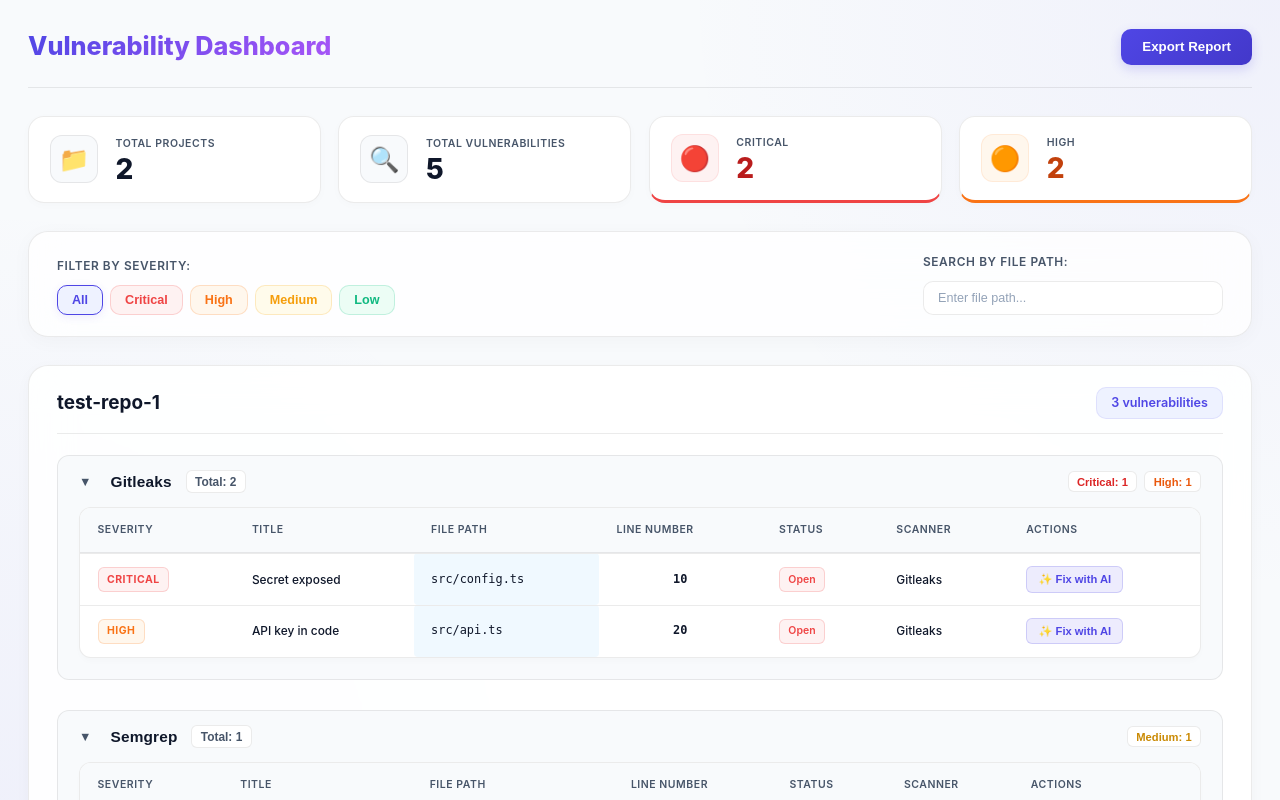
Test case: DashboardContainer › Filter interactions › should show no results message when filters match nothing
This screenshot has width=1280, height=800.
# Search for non-existent file
Type "nonexistent.ts" into the field with placeholder "Enter file path...".
click(1073, 298); type("nonexistent.ts")  # box 923,281 -> 1223,315
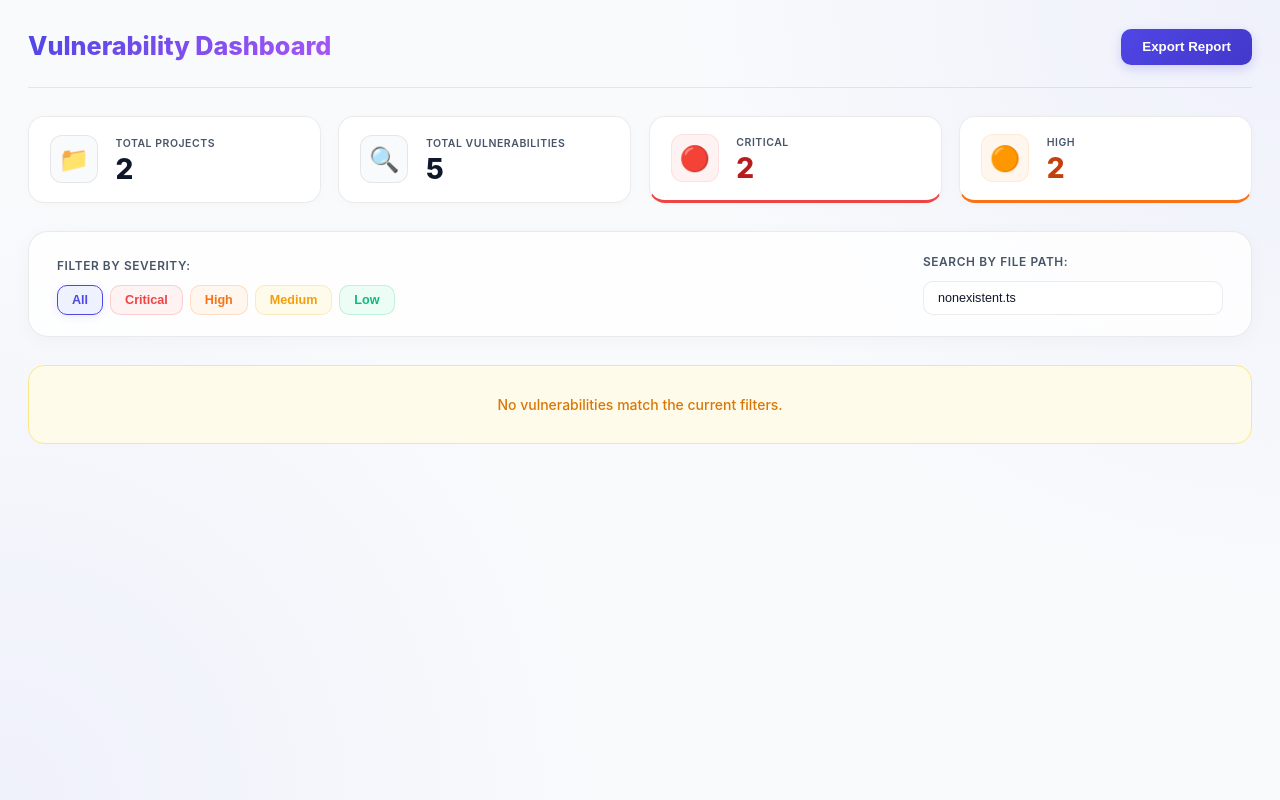
Check: the text "No vulnerabilities match the current filters." is shown, box 497,396 -> 783,413
